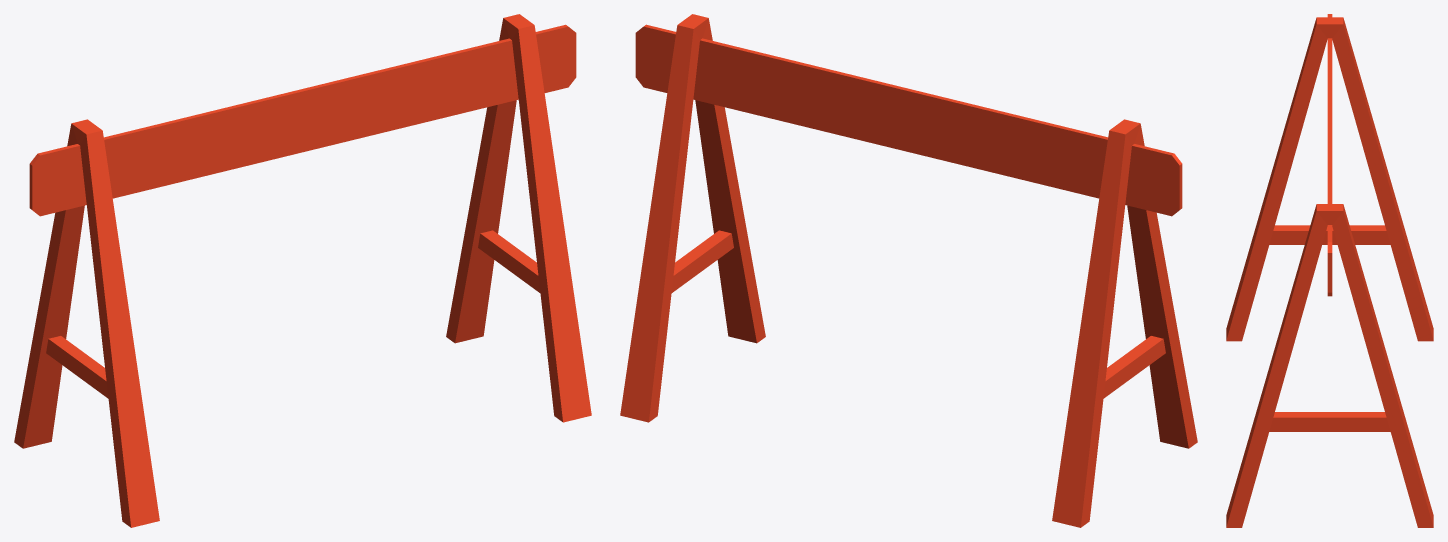
The model's file is SM_Barrier_D_City.fbx.
3 renders of one model, left to right at view 1: azimuth 30°, elevation 25°; view 2: azimuth 150°, elevation 25°; view 3: azimuth 270°, elevation 25°, orthographic. The views are drawn at different scales.
Parts seen in each view (by area): view 1: SM_Barrier_D_City; view 2: SM_Barrier_D_City; view 3: SM_Barrier_D_City.
Part boxes in pixels (x1,y1,x2,y2): SM_Barrier_D_City: (14,14,591,527); SM_Barrier_D_City: (620,14,1197,527); SM_Barrier_D_City: (1226,14,1433,527).
Bounding box in the file's own units: 1.79 × 1.11 × 0.6672.
